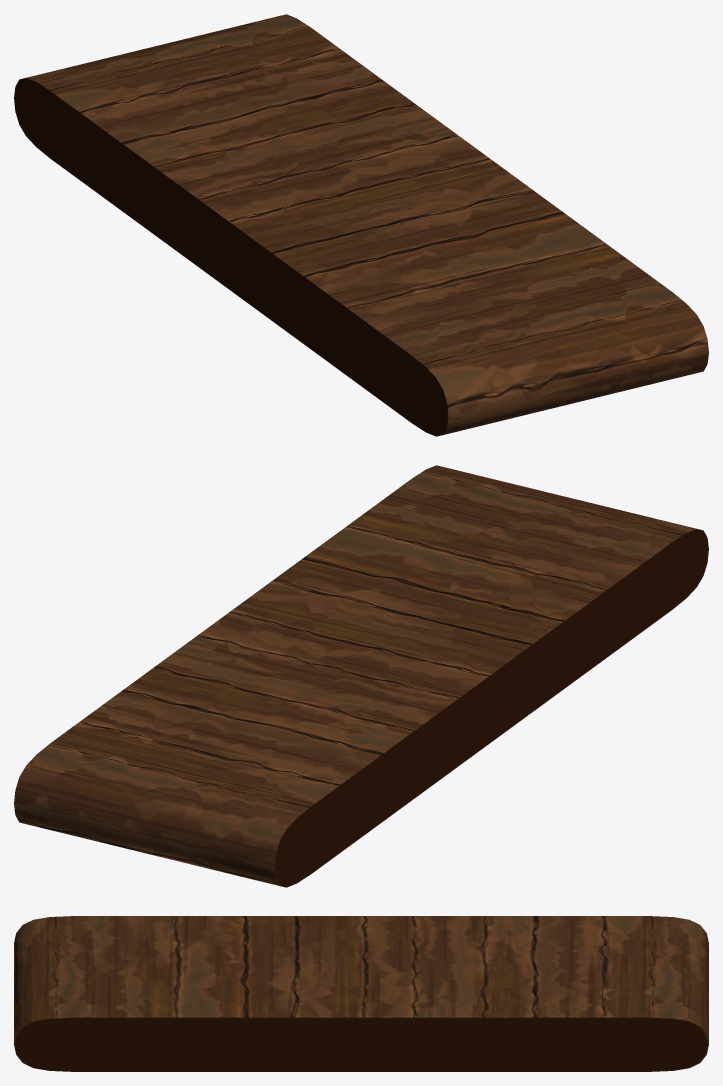
The model's file is Balista_Tartak_Kamieniolom.fbx.
The picture shows the model from 3 angles, top to bottom: view 1: azimuth 30°, elevation 25°; view 2: azimuth 150°, elevation 25°; view 3: azimuth 270°, elevation 25°; orthographic projection. The views are drawn at different scales.
Parts seen in each view (by area): view 1: Cylinder.009_Baked; view 2: Cylinder.009_Baked; view 3: Cylinder.009_Baked.
Boxes of the visible parts, x1=… form: Cylinder.009_Baked: x1=14, y1=14, x2=708, y2=436; Cylinder.009_Baked: x1=14, y1=465, x2=708, y2=887; Cylinder.009_Baked: x1=14, y1=916, x2=708, y2=1071.
Bounding box in the file's own units: 66.83 × 16.61 × 193.
Materials: 1 (1 with a texture image).
